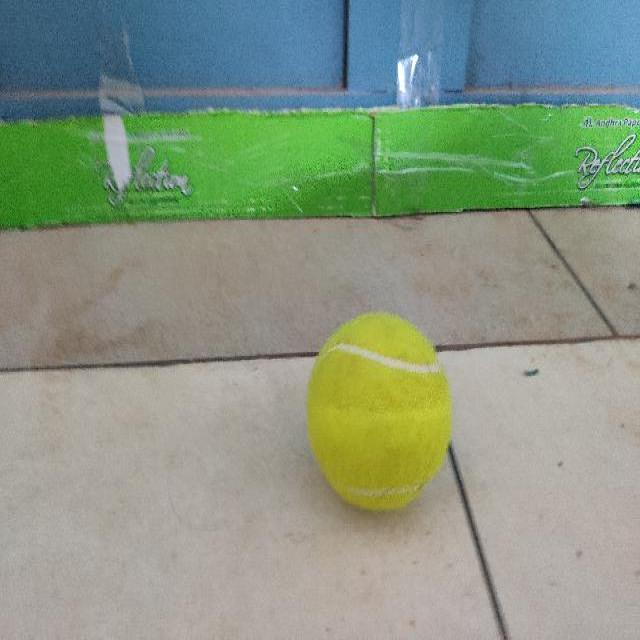tennis-ball: (306, 311, 453, 509)
